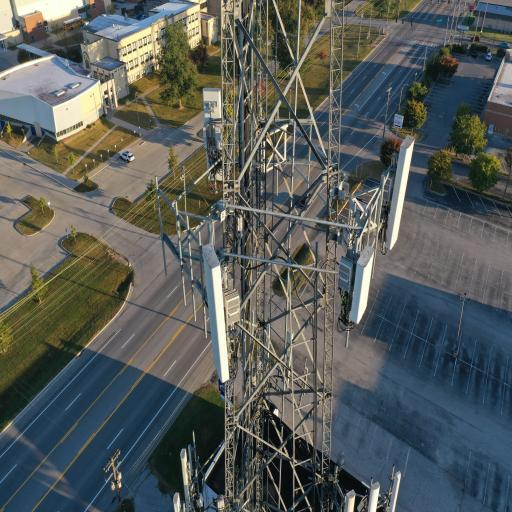supporting_tower: (138, 0, 426, 512)
